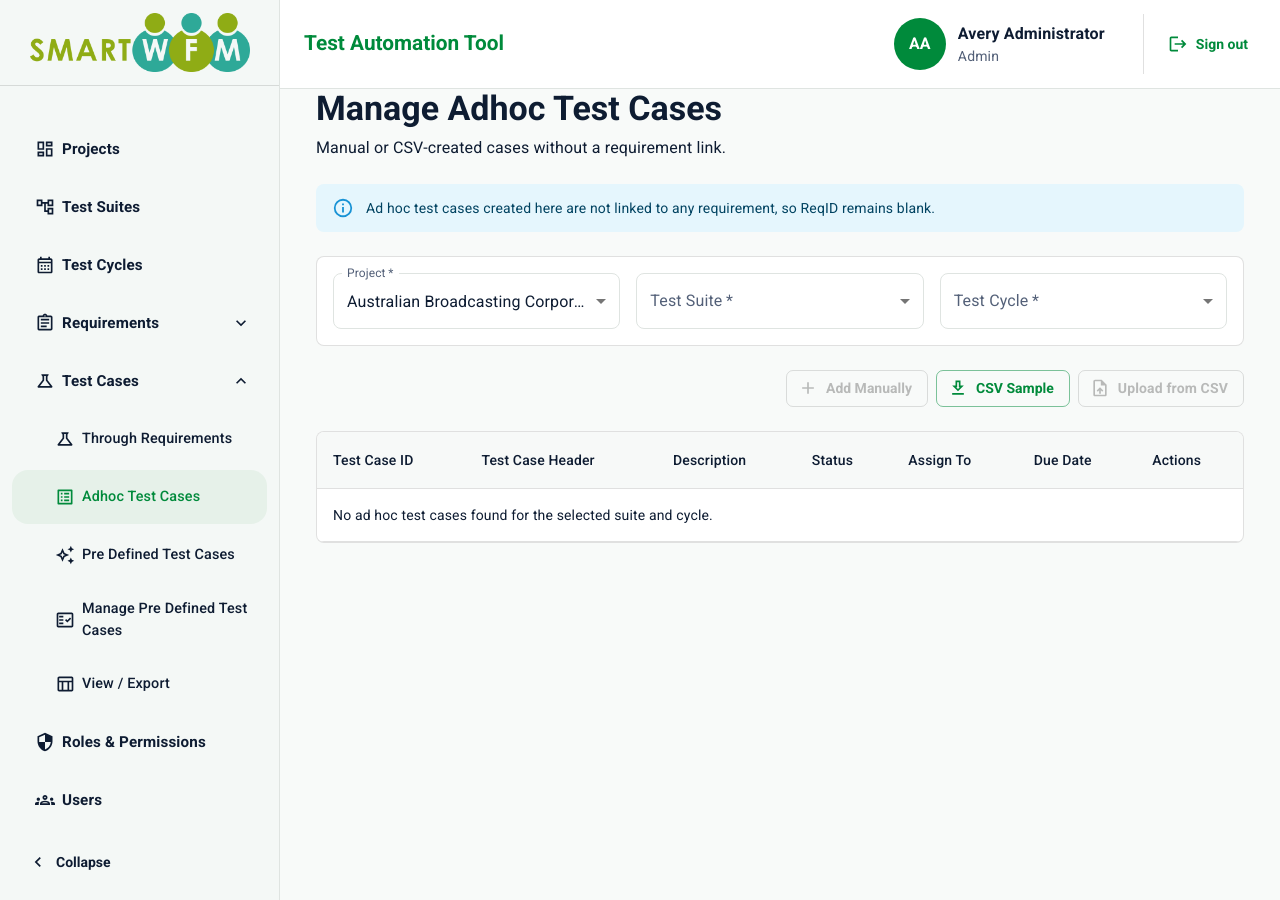
Scenario: App shell › shows Due Date validation inside the edit test case dialog
Check: the heading "Manage Adhoc Test Cases" is shown, box [316,88,722,128]
Click the 1st dropdown named "Test Suite" at (780, 301), box [636,273,924,329]
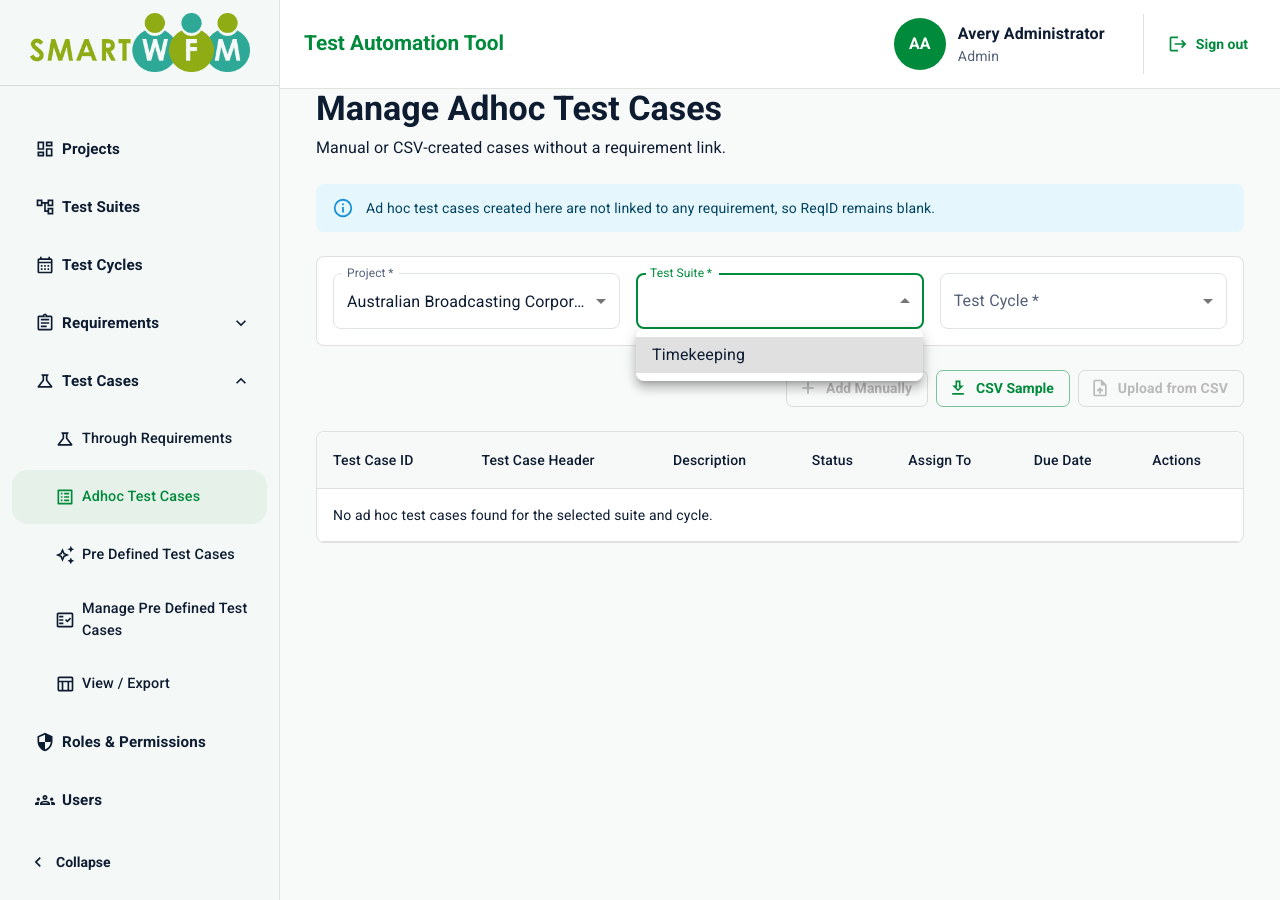
Click the option "Timekeeping" at (699, 354), box [636,337,923,373]
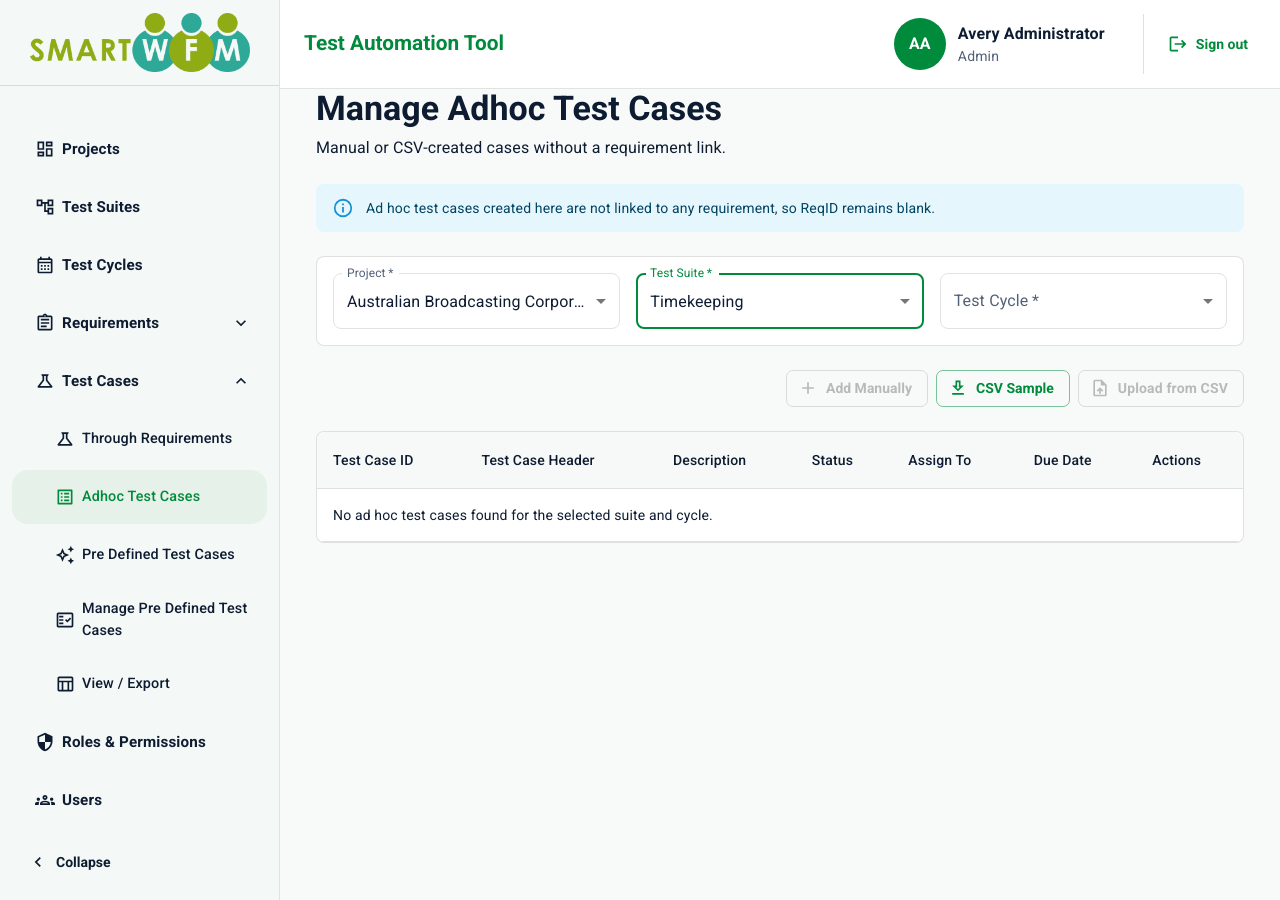
Click the dropdown named "Test Cycle" at (1083, 301), box [940,273,1227,329]
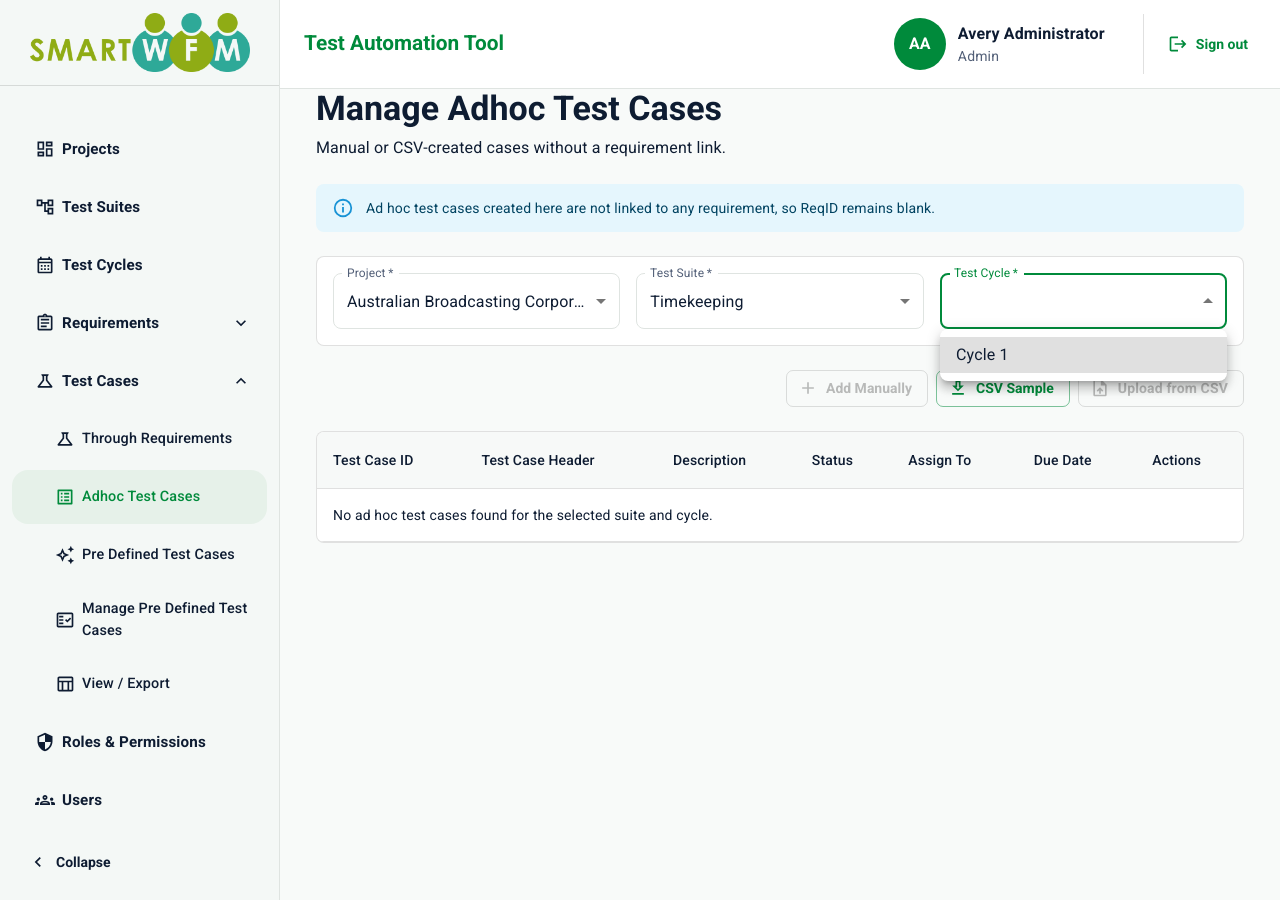
Click the option "Cycle 1" at (982, 354), box [940,337,1227,373]
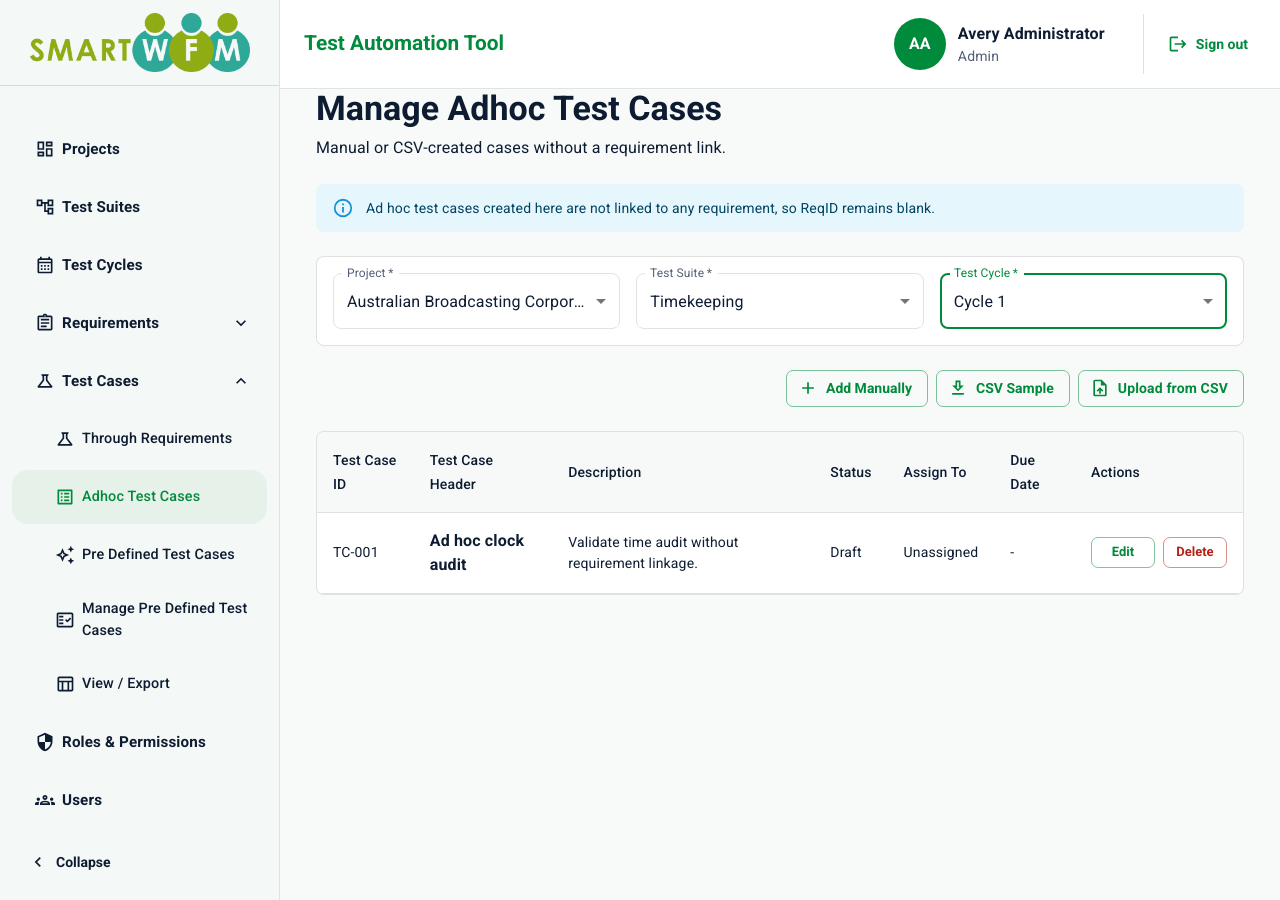
Check: the text "Ad hoc clock audit" is shown, box [430,528,536,576]
Click the button "Edit" at (1123, 552), box [1091,537,1155,568]
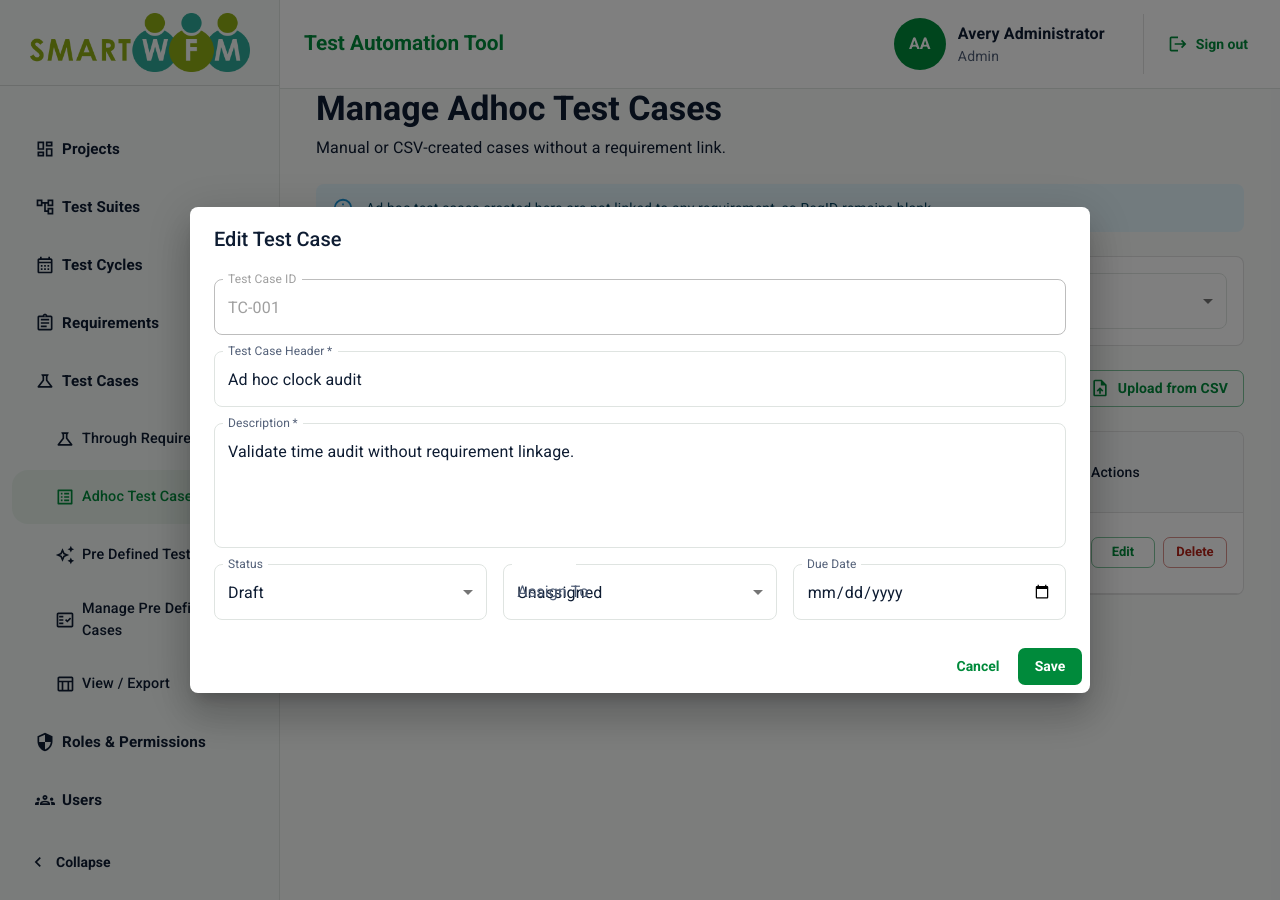
Type "2026-09-01" into the date field labelled "Due Date" at (929, 592), box [793,564,1066,620]
Click the button "Save" at (1050, 667), box [1018,648,1082,685]
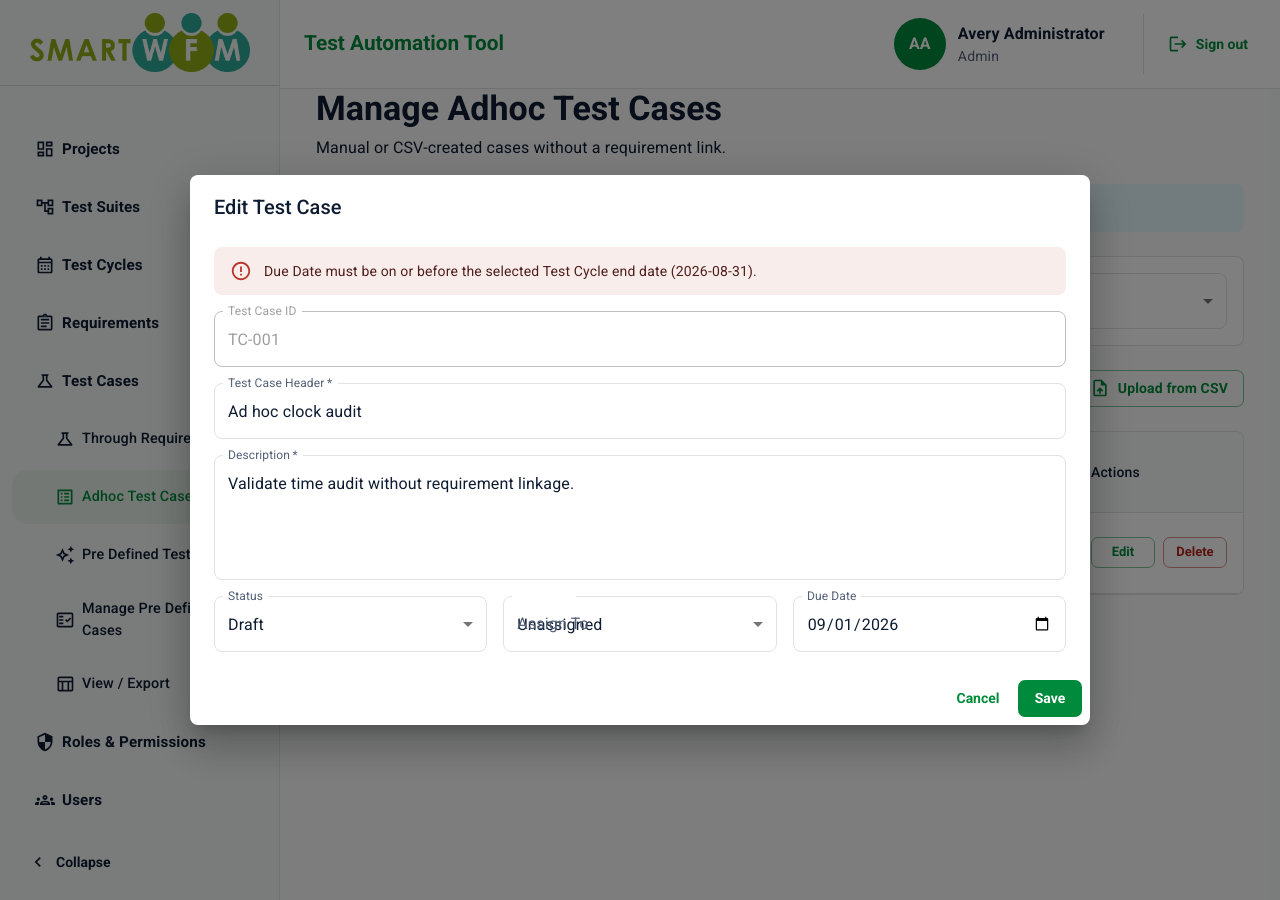
Check: the dialog "Edit Test Case" is shown, box [190,175,1090,725]
Check: the text "Due Date must be on or before the selected Test Cycle end date (2026-08-31)." is shown once, box [264,263,757,279]
